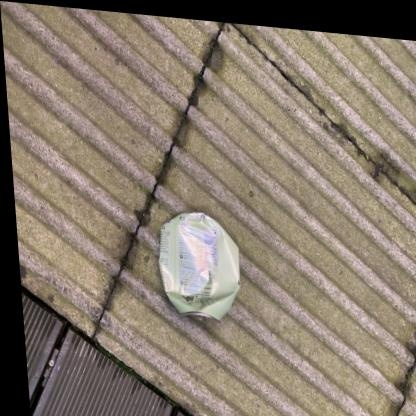trash: (159, 212, 239, 319)
